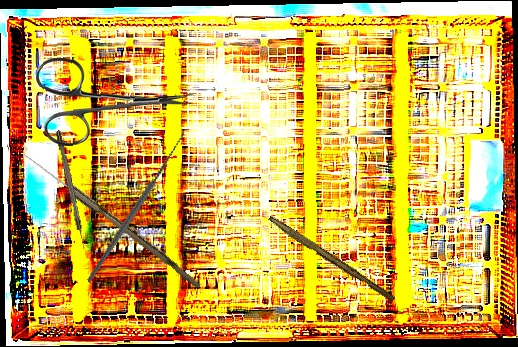Hook Surgical: (43, 124, 225, 284), (55, 129, 87, 251)
Iris Scissors: (35, 53, 196, 147)
Scalpel Handle: (265, 215, 398, 303)
Surgical Spoon: (19, 150, 205, 289)
